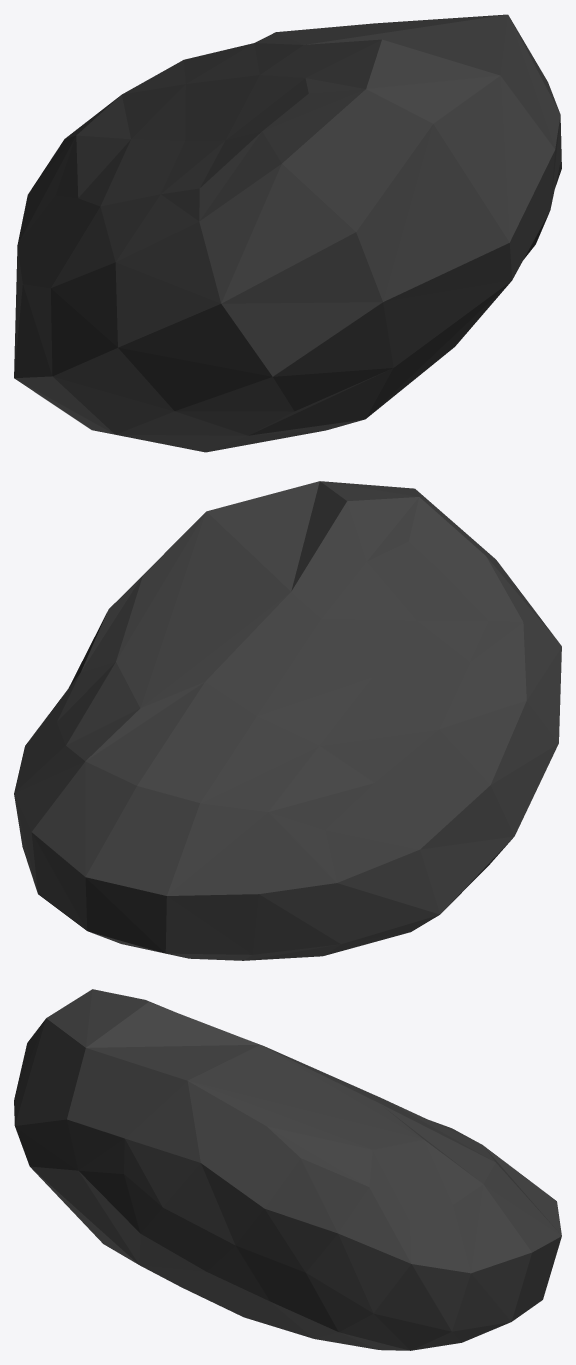
File: LHL_patella.glb
3 renders of one model, top to bottom at view 1: azimuth 30°, elevation 25°; view 2: azimuth 150°, elevation 25°; view 3: azimuth 270°, elevation 25°, orthographic. The views are drawn at different scales.
Visible parts, largest first — view 1: LHL_patella; view 2: LHL_patella; view 3: LHL_patella.
Boxes of the visible parts, x1,y1,x2,y2 form: LHL_patella: (14,14,561,452); LHL_patella: (14,481,561,960); LHL_patella: (14,989,561,1350).
Size of the model in its own units: 6.57 by 5.51 by 8.3.
Materials: 1 (1 with a texture image).
